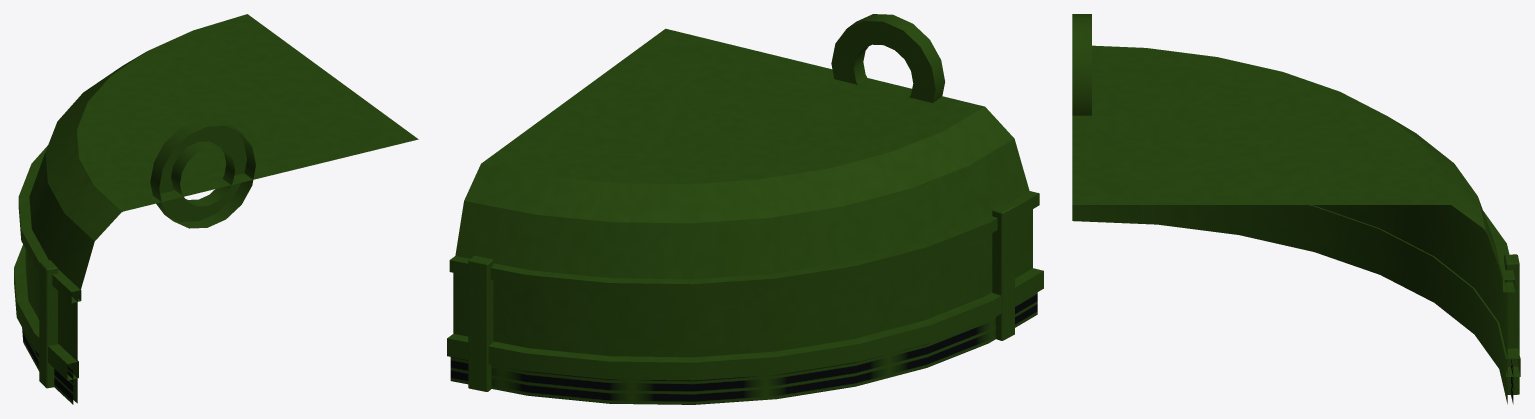
File: cell_33.obj
3 views of the same model, side by side, from view 1: azimuth 30°, elevation 25°; view 2: azimuth 150°, elevation 25°; view 3: azimuth 270°, elevation 25° (orthographic). The views are drawn at different scales.
Visible parts, largest first — view 1: cell_33; view 2: cell_33; view 3: cell_33.
Part boxes in pixels (x1=…): cell_33: x1=14, y1=14, x2=418, y2=404; cell_33: x1=447, y1=14, x2=1043, y2=404; cell_33: x1=1072, y1=14, x2=1520, y2=404.
Bounding box in the file's own units: 0.7481 × 0.5 × 0.7481.
